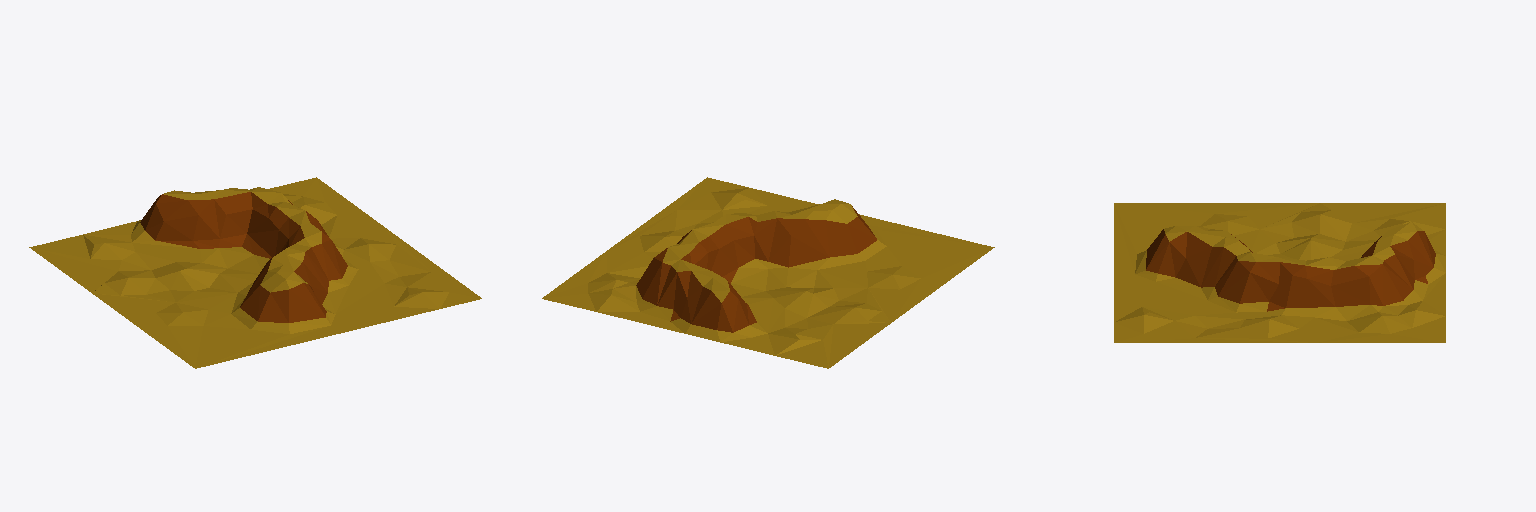
File: terrain1.obj
3 views of the same model, side by side, from view 1: azimuth 30°, elevation 25°; view 2: azimuth 150°, elevation 25°; view 3: azimuth 270°, elevation 25° (orthographic).
Parts seen in each view (by area): view 1: Terrain_1_Plane.009; view 2: Terrain_1_Plane.009; view 3: Terrain_1_Plane.009.
Part boxes in pixels (left/top/right/bottom): Terrain_1_Plane.009: left=29, top=177, right=481, bottom=368; Terrain_1_Plane.009: left=542, top=177, right=994, bottom=368; Terrain_1_Plane.009: left=1114, top=203, right=1445, bottom=342.
Size of the model in its own units: 20 by 2.77 by 20.